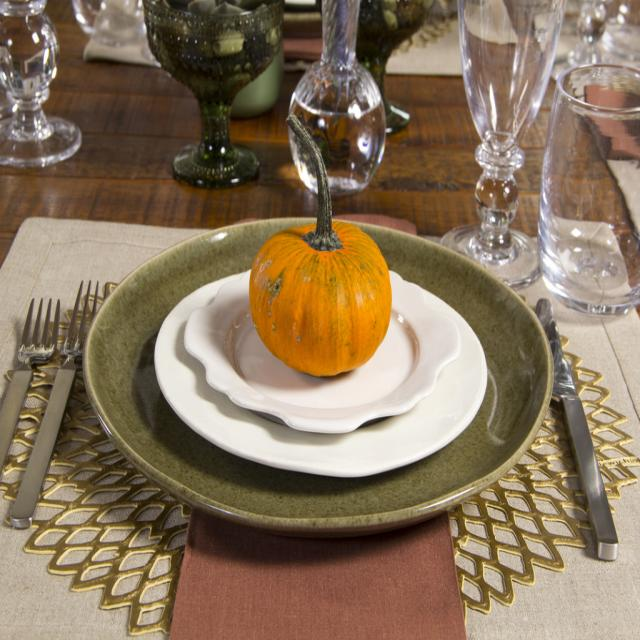non-organic waste: (81, 225, 551, 562)
